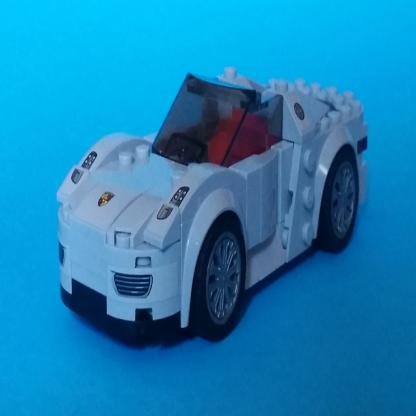Car: (54, 60, 373, 342)
